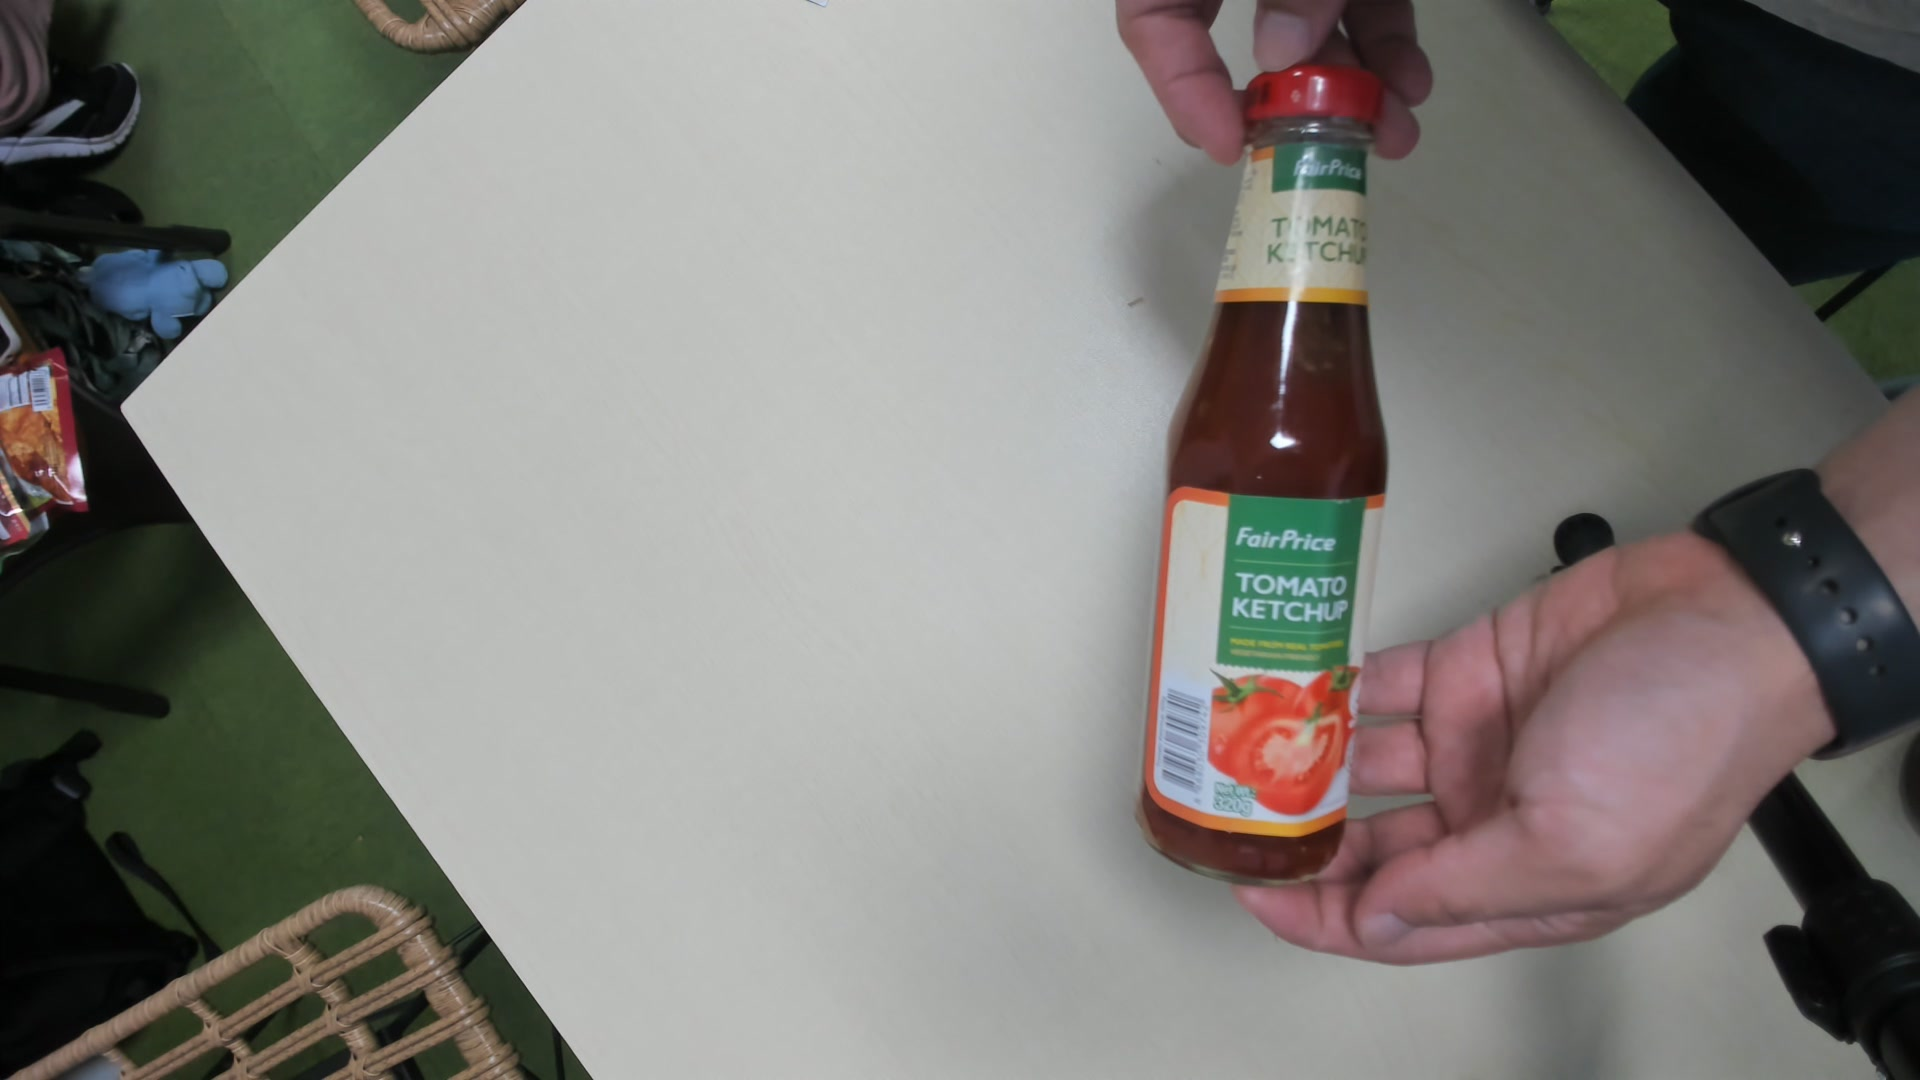KetchupChillSauce_300-399g_Halal_Healthy: (1131, 69, 1403, 887)
